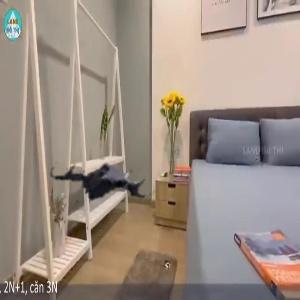drone: (50, 134, 152, 236)
